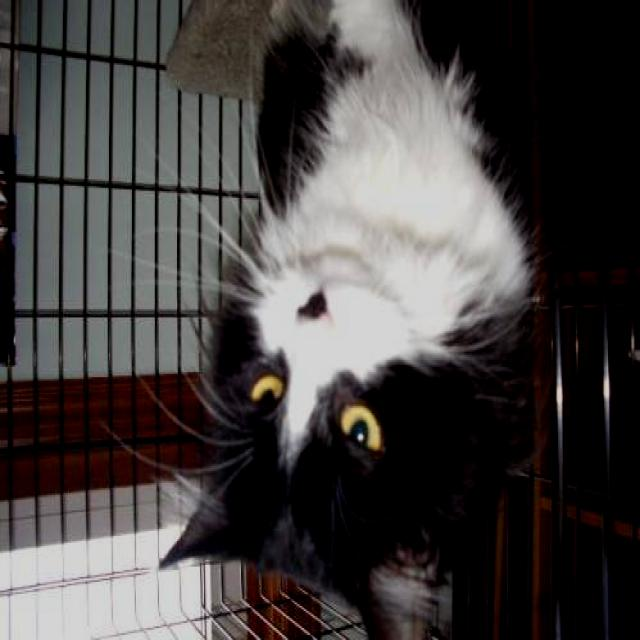Kucing: (126, 2, 598, 629)
